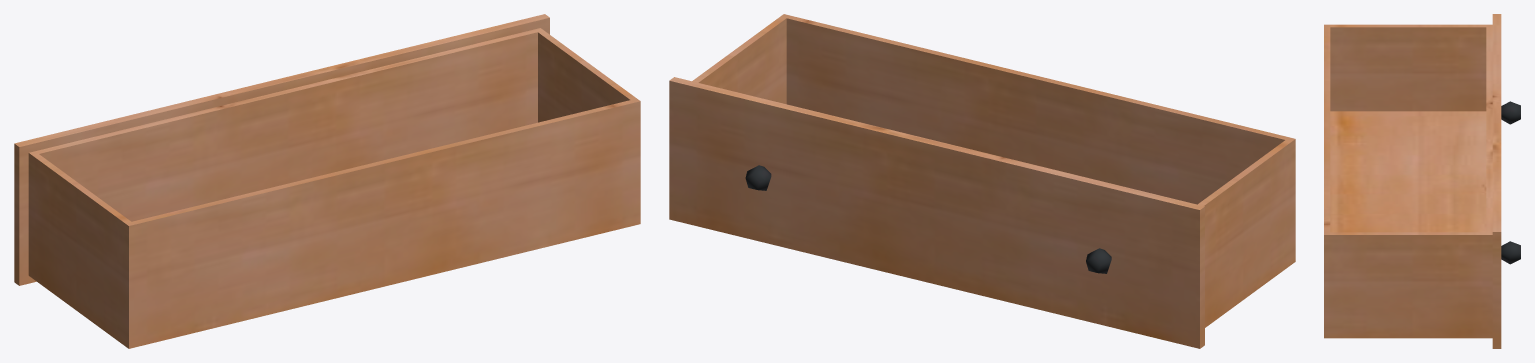
The model's file is Drawer_02.glb.
3 renders of one model, left to right at view 1: azimuth 30°, elevation 25°; view 2: azimuth 150°, elevation 25°; view 3: azimuth 270°, elevation 25°, orthographic. The views are drawn at different scales.
Visible parts, largest first — view 1: Drawer_02; view 2: Drawer_02; view 3: Drawer_02.
Boxes of the visible parts, x1,y1,x2,y2 form: Drawer_02: [14, 14, 640, 348]; Drawer_02: [669, 14, 1295, 348]; Drawer_02: [1324, 14, 1520, 348].
Size of the model in its own units: 1.26 by 0.315 by 0.4806.
Materials: 2 (2 with a texture image).
